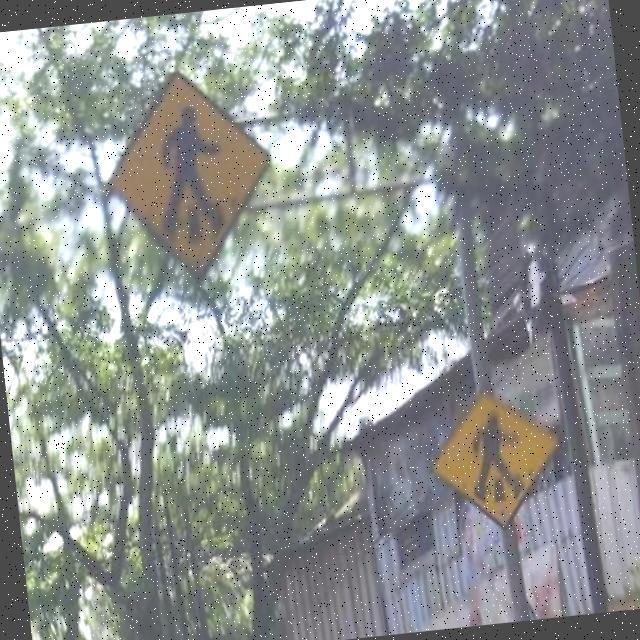Przejscie dla pieszych: (106, 72, 282, 284), (426, 392, 562, 530)
